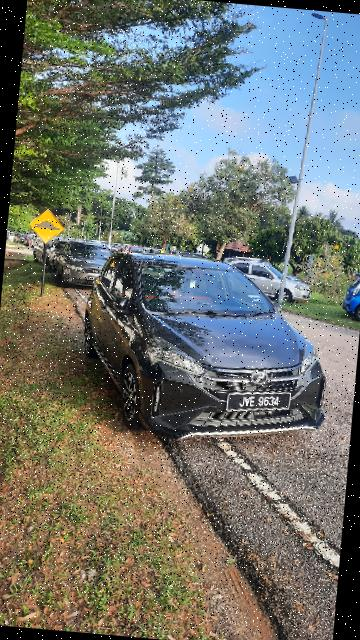License_Plate: (226, 387, 295, 419)
car: (74, 250, 344, 452)
